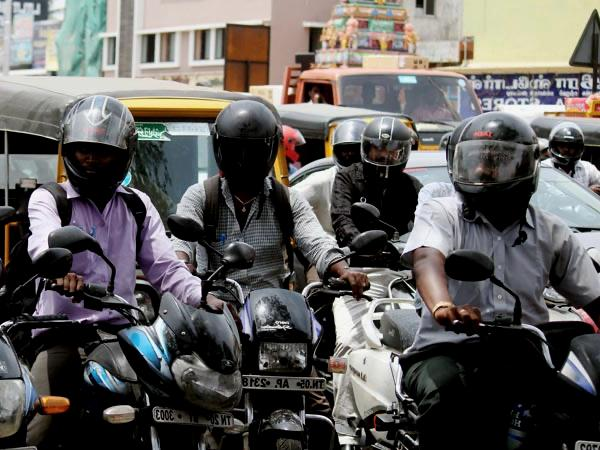With Helmet: (46, 87, 149, 206), (442, 107, 550, 219), (199, 91, 292, 201), (354, 110, 421, 186)
